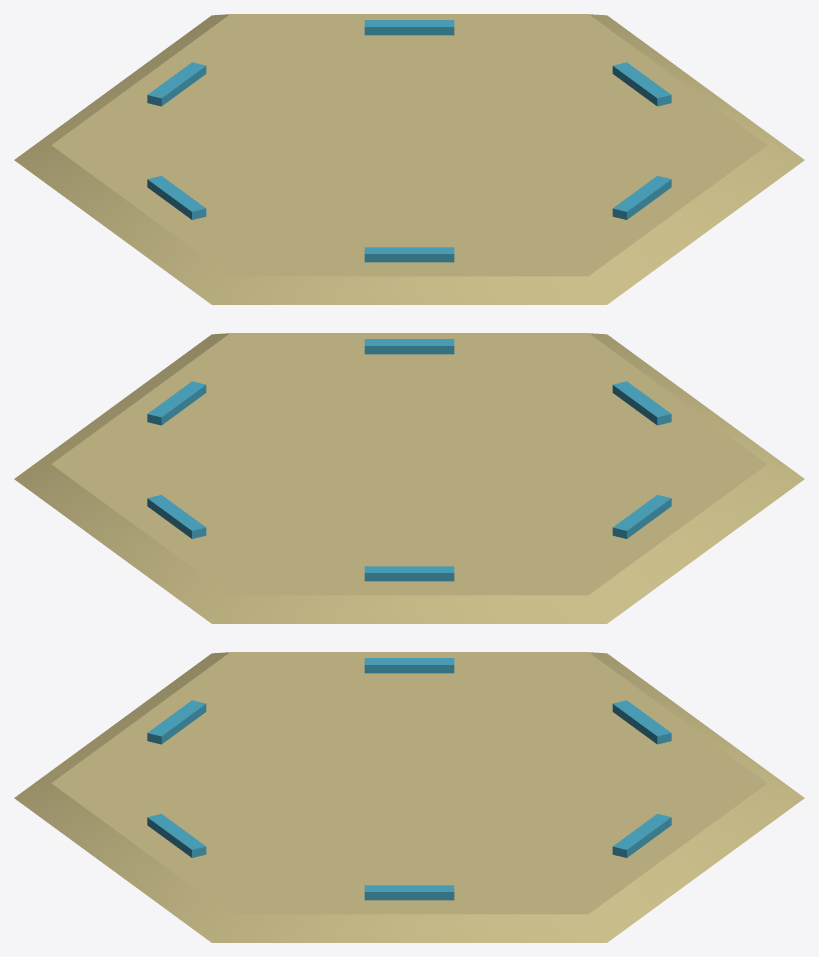
Rendered from foundation.glb.
The picture shows the model from 3 angles, top to bottom: view 1: azimuth 30°, elevation 25°; view 2: azimuth 150°, elevation 25°; view 3: azimuth 270°, elevation 25°; orthographic projection.
Parts seen in each view (by area): view 1: foundation_inlay, foundation_rune_2, foundation_rune_5, foundation_rune_0, foundation_rune_1, foundation_rune_3, foundation_rune_4; view 2: foundation_inlay, foundation_rune_1, foundation_rune_4, foundation_rune_0, foundation_rune_2, foundation_rune_3, foundation_rune_5; view 3: foundation_inlay, foundation_rune_0, foundation_rune_3, foundation_rune_1, foundation_rune_2, foundation_rune_4, foundation_rune_5.
Boxes of the visible parts, x1,y1,x2,y2 form: foundation_inlay: (14, 14, 804, 304); foundation_rune_2: (364, 247, 454, 262); foundation_rune_5: (364, 20, 454, 35); foundation_rune_0: (612, 62, 671, 106); foundation_rune_1: (612, 176, 671, 219); foundation_rune_3: (147, 176, 206, 219); foundation_rune_4: (147, 62, 206, 106); foundation_inlay: (14, 333, 804, 623); foundation_rune_1: (364, 339, 454, 354); foundation_rune_4: (364, 566, 454, 581); foundation_rune_0: (147, 381, 206, 425); foundation_rune_2: (612, 381, 671, 425); foundation_rune_3: (612, 495, 671, 538); foundation_rune_5: (147, 495, 206, 538); foundation_inlay: (14, 652, 804, 942); foundation_rune_0: (364, 885, 454, 900); foundation_rune_3: (364, 658, 454, 673); foundation_rune_1: (147, 814, 206, 857); foundation_rune_2: (147, 700, 206, 744); foundation_rune_4: (612, 700, 671, 744); foundation_rune_5: (612, 814, 671, 857).
Size of what is drawn, in the model's own units: 9.18 by 0.34 by 10.6.
